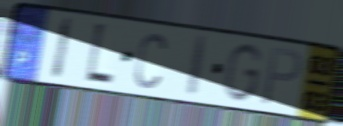C: (132, 30, 169, 91)
G: (220, 42, 265, 105)
I: (184, 34, 211, 100), (49, 15, 75, 83)
L: (83, 19, 116, 89)
P: (259, 46, 305, 108)
